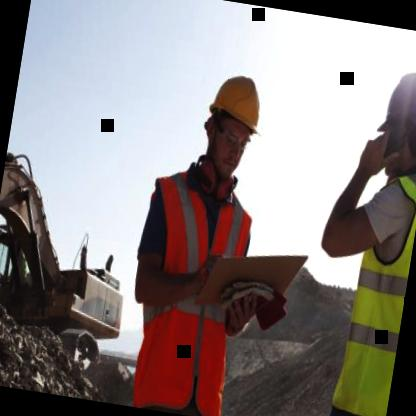helmet: (191, 52, 279, 192), (368, 61, 416, 179)
